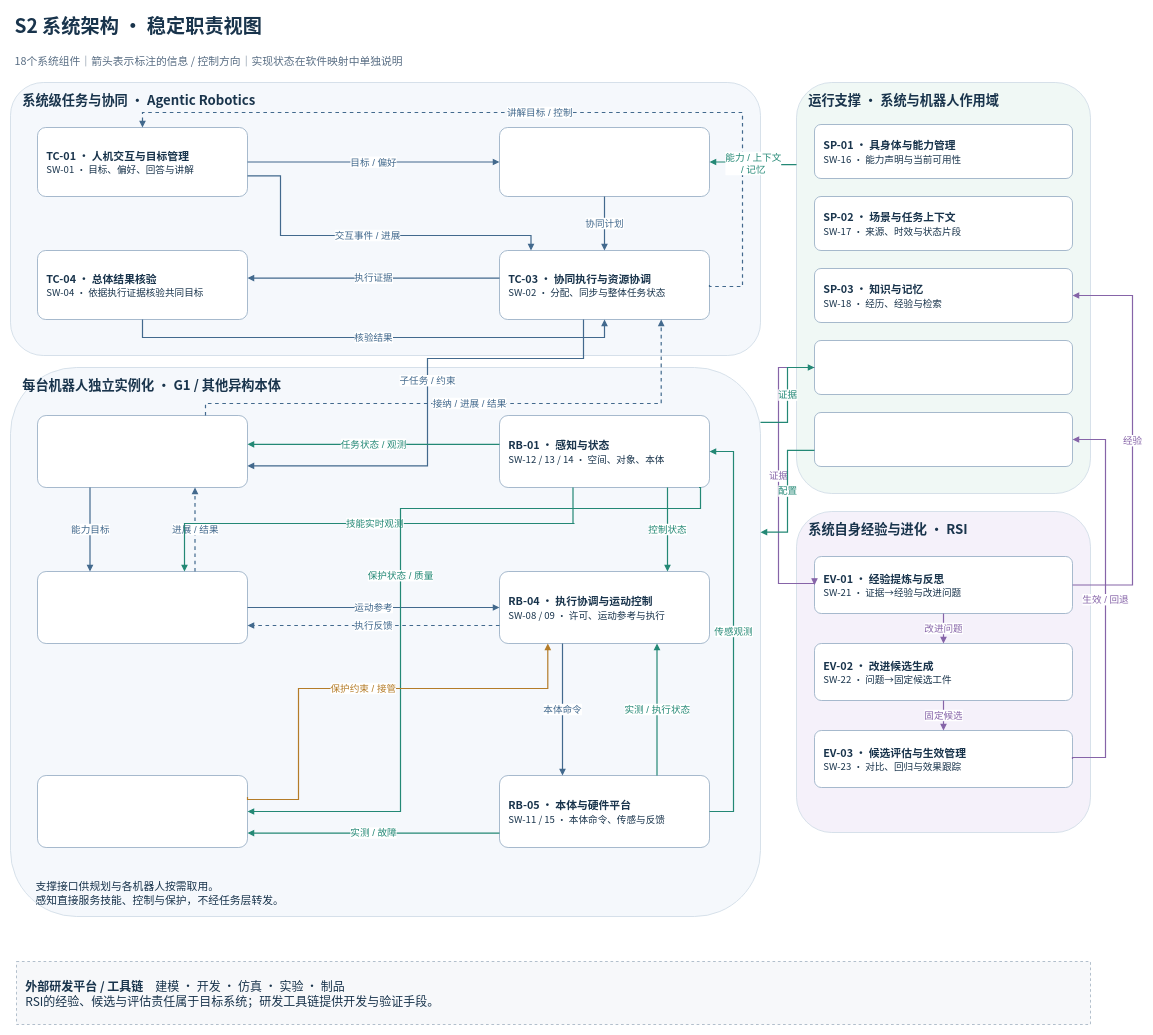
This 1153x1035 diagram has some shape labels left out. Each missing label, with the centre of its shape:
RB-02 · 本地任务规划与执行 SW-05 · 接纳目标、编排技能、本地核验: pixel 142 451
RB-03 · 技能与动作策略 SW-06 / 07 · 导航与全身操作能力: pixel 142 607
RB-06 · 运行保护与接管 SW-10 · 条件检查、停止与接管: pixel 142 811
SP-04 · 运行证据 SW-19 · 事件、执行结果与版本: pixel 943 367
SP-05 · 配置与版本管理 SW-20 · 装配、生效与回退: pixel 943 439
TC-02 · 协同任务规划 SW-03 · 目标分解、能力匹配、重规划: pixel 604 162
